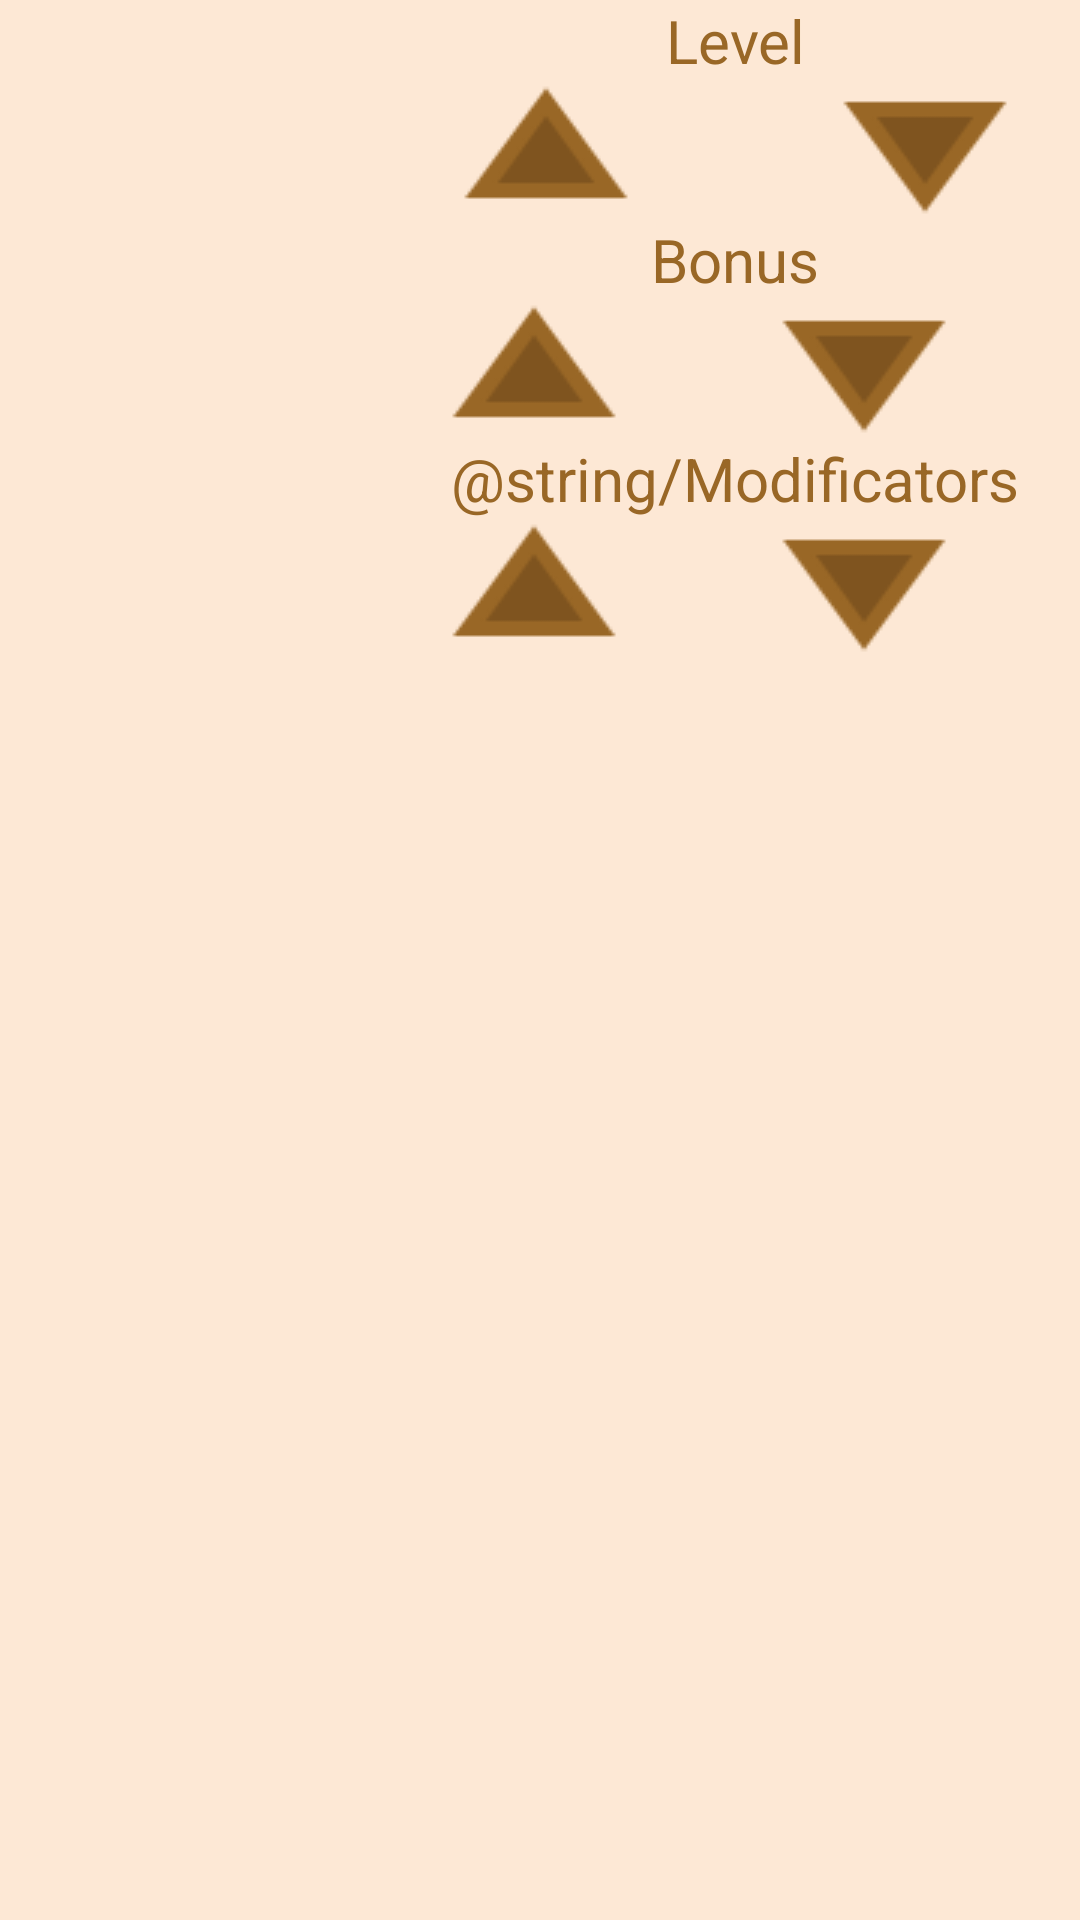

Screen size 1080 × 1920. Icon name, then its box in pixels as detection(x1, y1, x2, y2):
down: detection(843, 101, 1007, 212), detection(782, 320, 946, 431), detection(782, 539, 946, 650)
